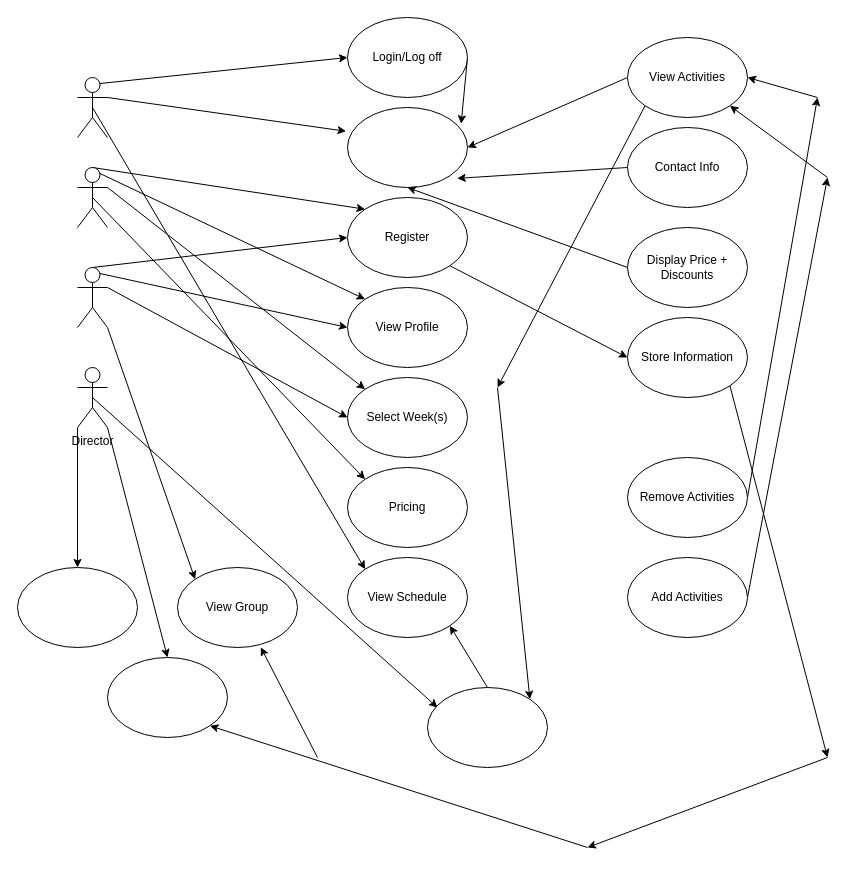
This 853x873 diagram has some shape labels left out. Each missing label, with the centre of its shape:
"All" belongs at (92,107).
"Counselor" belongs at (92,297).
"Gemerate Schedule" belongs at (487,727).
"Remove Camper/Counselor" belongs at (77,607).
"User" belongs at (92,197).
"View Camper/Counselor" belongs at (167,697).
"View HomePage" belongs at (407,147).
